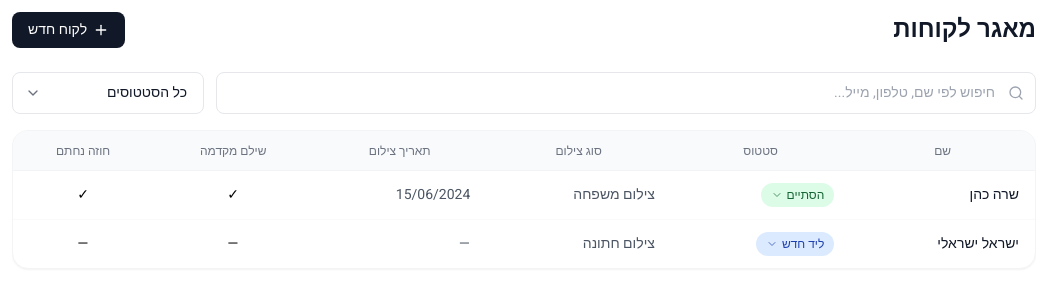
Test: ClientsDatabase › filters clients by firstName search
Type "ישראל" into the field with placeholder "חיפוש לפי שם, טלפון, מייל..." at x=626, y=93, box [216, 72, 1036, 114]
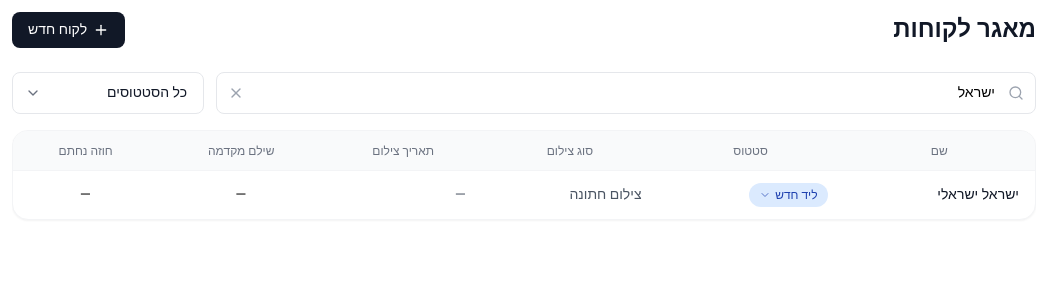
Expected: the text "ישראל ישראלי" is shown, [844, 171, 1035, 219]
Expected: the text "שרה כהן" is gone
